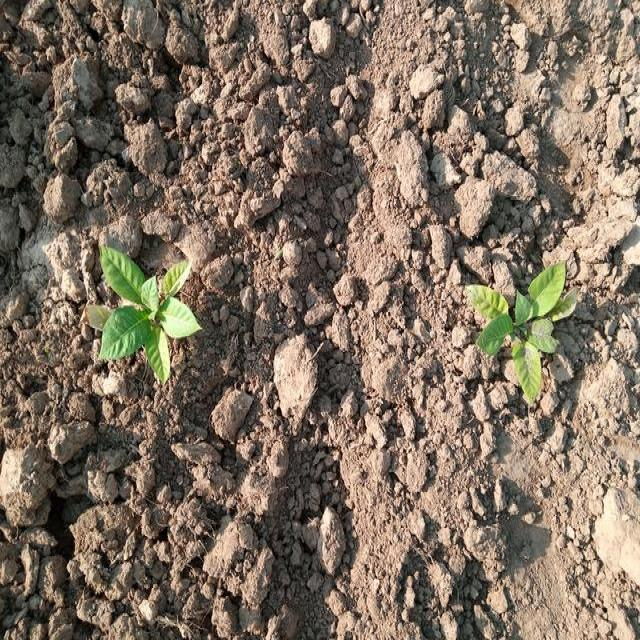crop: (462, 266, 588, 400), (102, 267, 196, 379)
